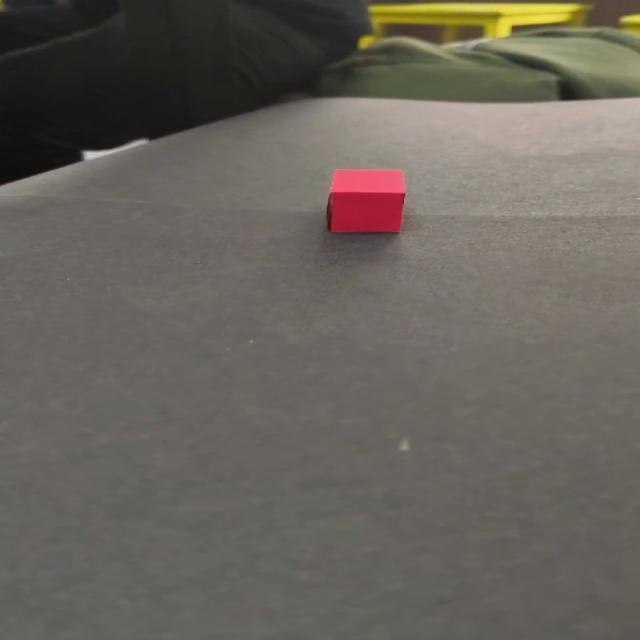red block: (325, 168, 407, 233)
